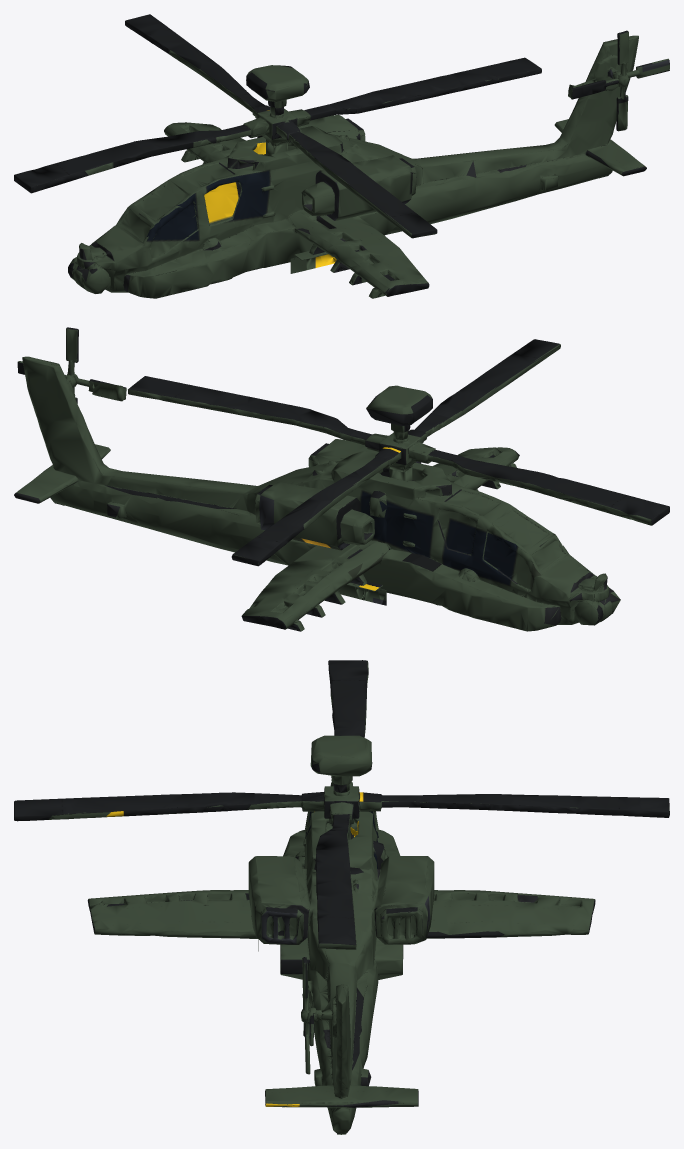
The model's file is test_player.glb.
The picture shows the model from 3 angles, top to bottom: view 1: azimuth 30°, elevation 25°; view 2: azimuth 150°, elevation 25°; view 3: azimuth 270°, elevation 25°; orthographic projection. The views are drawn at different scales.
Parts seen in each view (by area): view 1: Helicopter_Body, Main_Rotor, Tail_Rotor; view 2: Helicopter_Body, Main_Rotor, Tail_Rotor; view 3: Helicopter_Body, Main_Rotor, Tail_Rotor.
Part boxes in pixels (x1,y1,x2,y2): Helicopter_Body: [68, 35, 646, 298]; Main_Rotor: [14, 14, 541, 238]; Tail_Rotor: [568, 30, 669, 131]; Helicopter_Body: [14, 356, 620, 631]; Main_Rotor: [128, 339, 669, 566]; Tail_Rotor: [17, 327, 126, 403]; Helicopter_Body: [87, 735, 595, 1134]; Main_Rotor: [14, 660, 669, 949]; Tail_Rotor: [301, 957, 321, 1074].
Size of the model in its own units: 1.9 by 0.5228 by 1.51.
2 materials, 2 textured.
